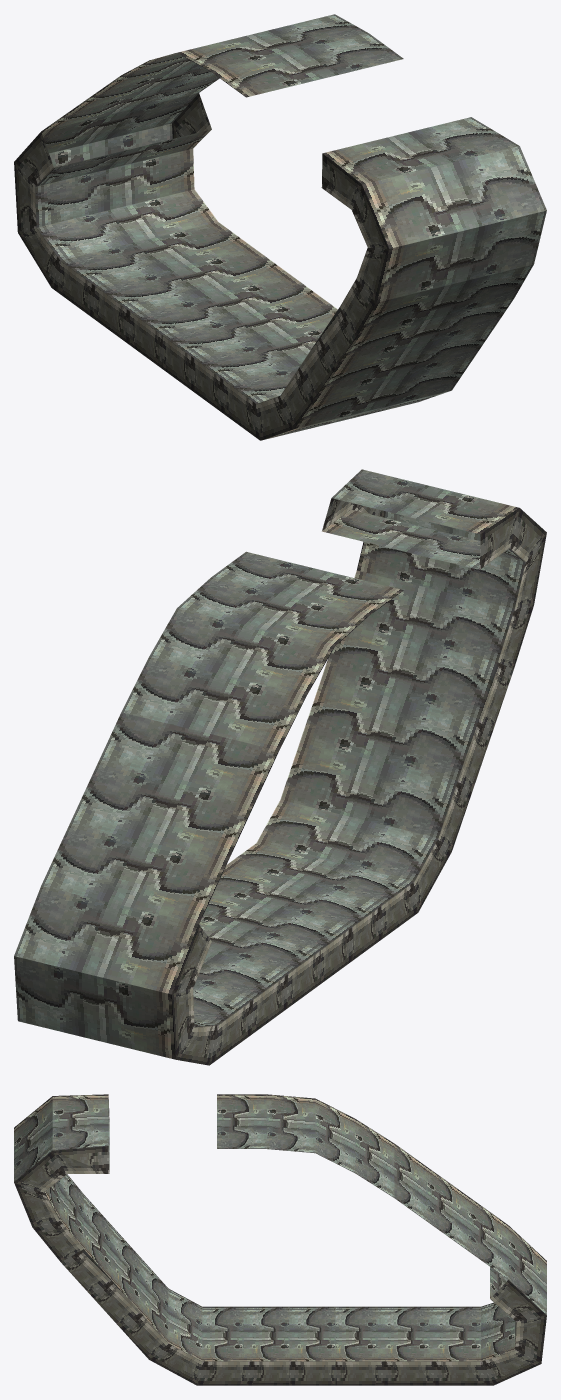
File: VXLTNKH_TRAC_L.obj
The picture shows the model from 3 angles, top to bottom: view 1: azimuth 30°, elevation 25°; view 2: azimuth 150°, elevation 25°; view 3: azimuth 270°, elevation 25°; orthographic projection. The views are drawn at different scales.
Visible parts, largest first — view 1: Node 0; view 2: Node 0; view 3: Node 0.
Part boxes in pixels (<box>): Node 0: <box>14,14,546,440</box>; Node 0: <box>14,469,546,1065</box>; Node 0: <box>14,1094,546,1385</box>.
Bounding box in the file's own units: 1.41 × 2.84 × 5.8.
Materials: 1 (1 with a texture image).
